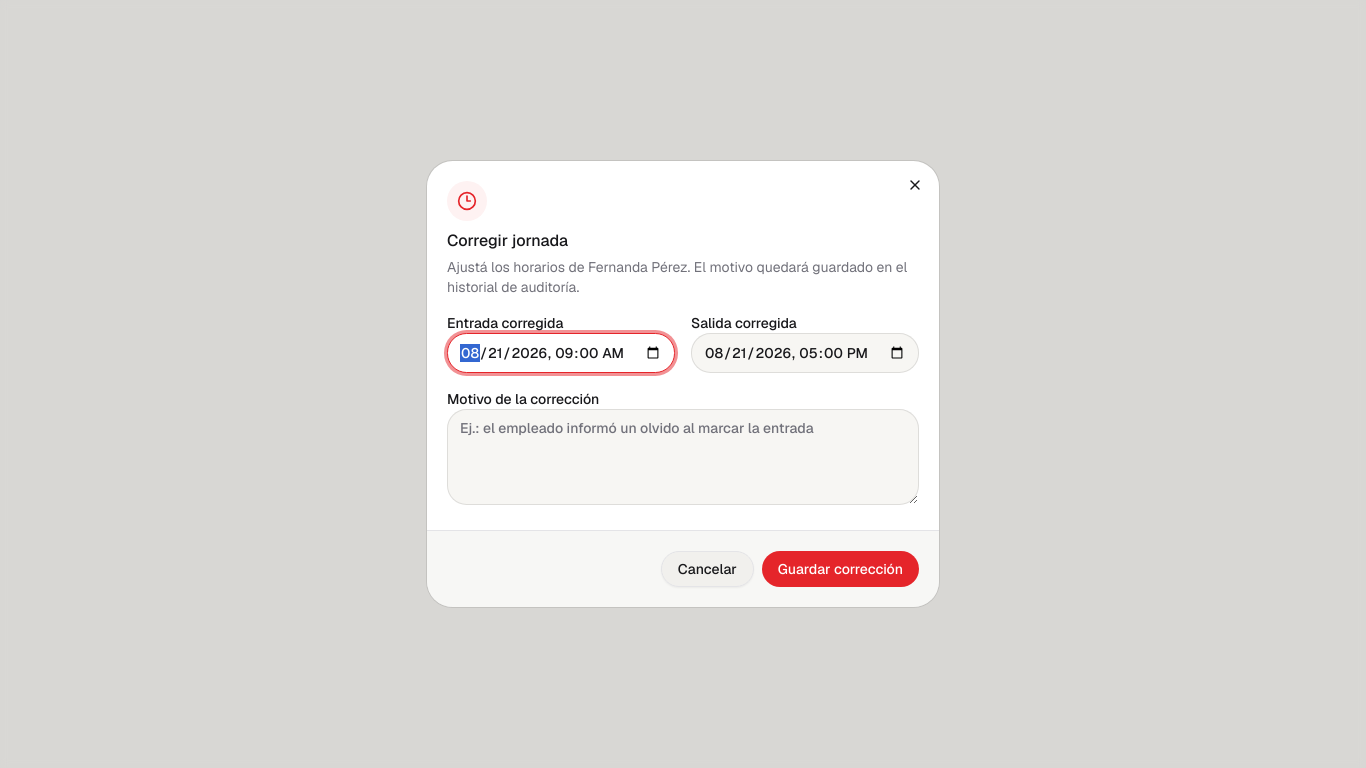
keeps a persisted correction successful when history refresh fails
This screenshot has width=1366, height=768.
Type "Corrección confirmada" into the text box labelled "Motivo de la corrección" at (683, 457), box [447,409,919,505]
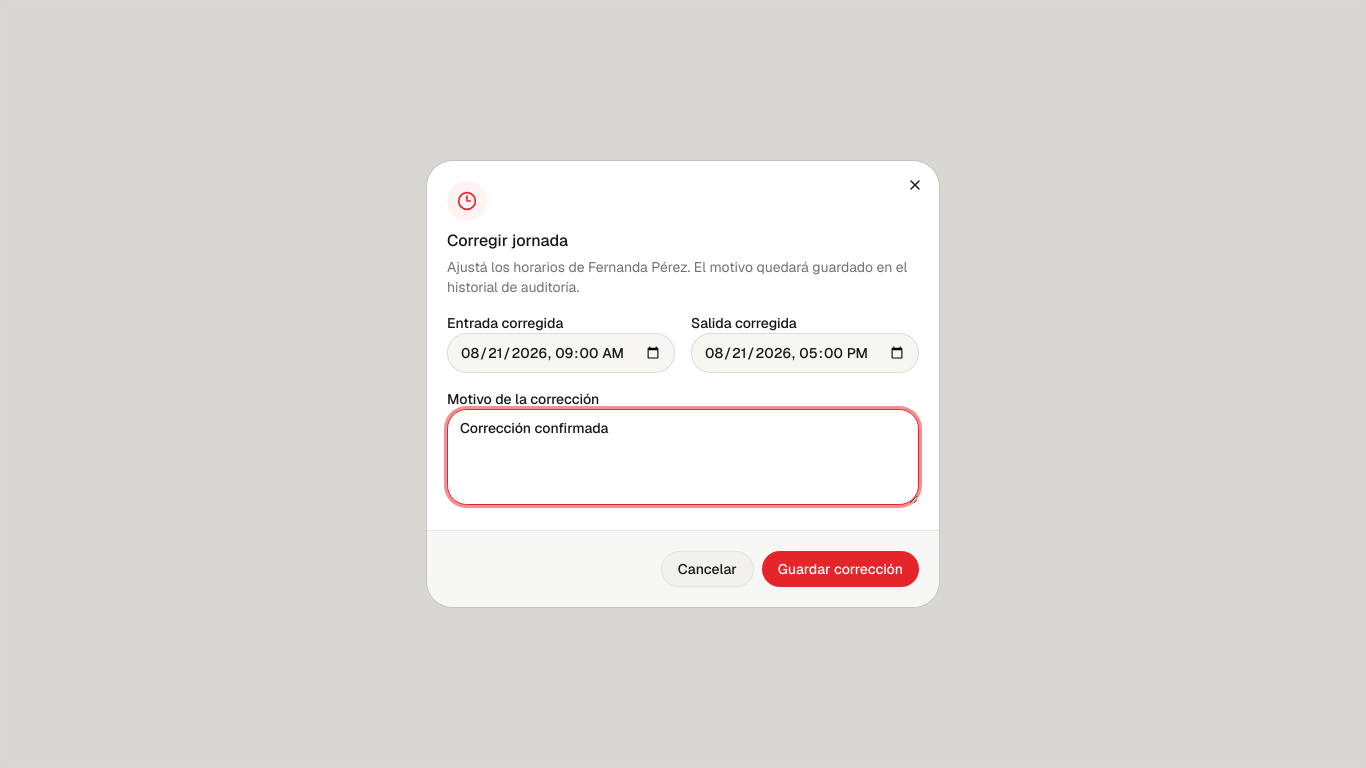
Click the button "Guardar corrección" at (840, 569), box [762,551,919,587]
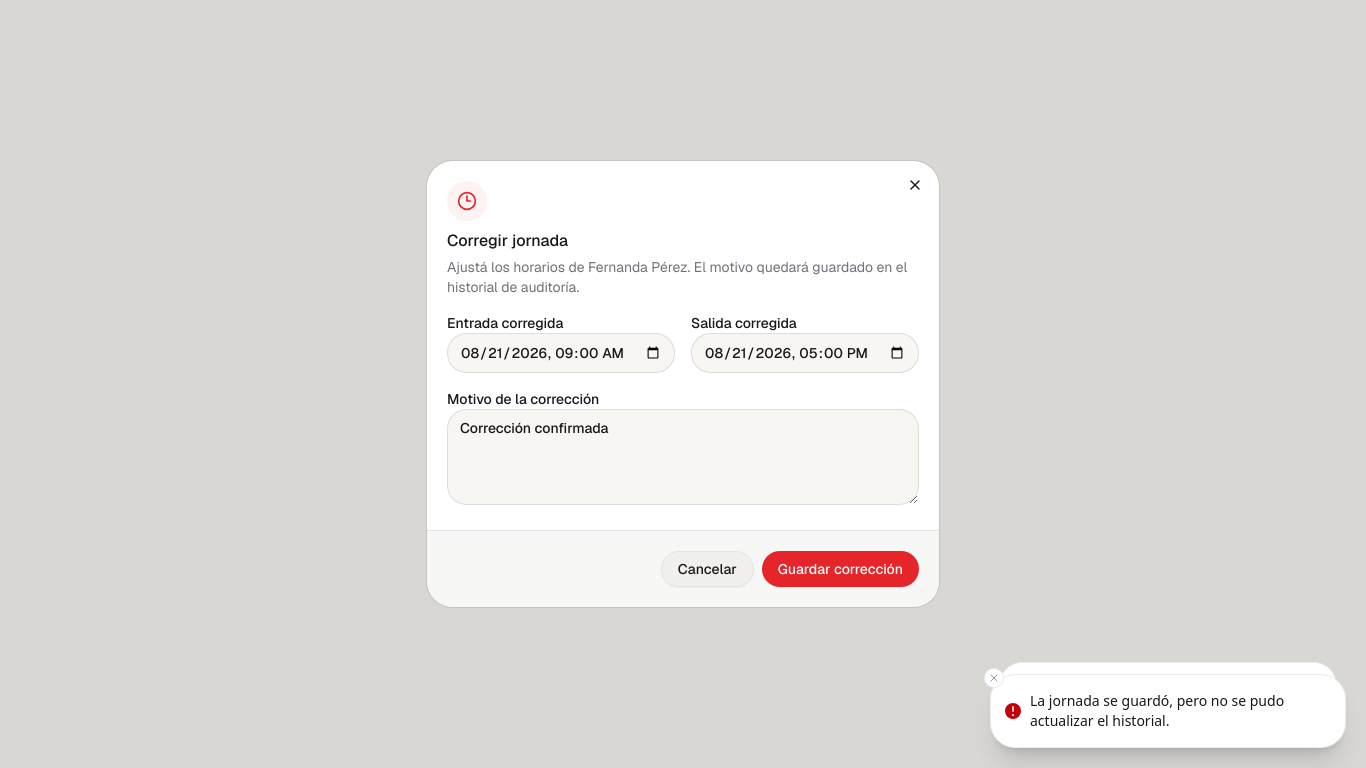
Check: the text "La jornada se guardó, pero no se pudo actualizar el historial." is shown, box [1030,691,1284,730]
